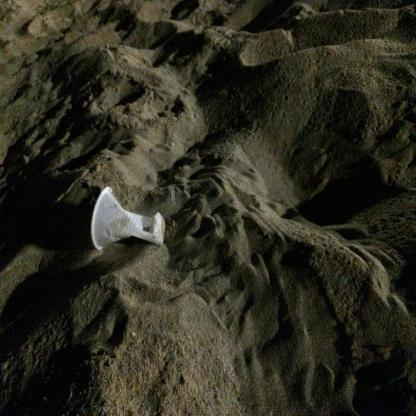plastik: (91, 187, 167, 253)
